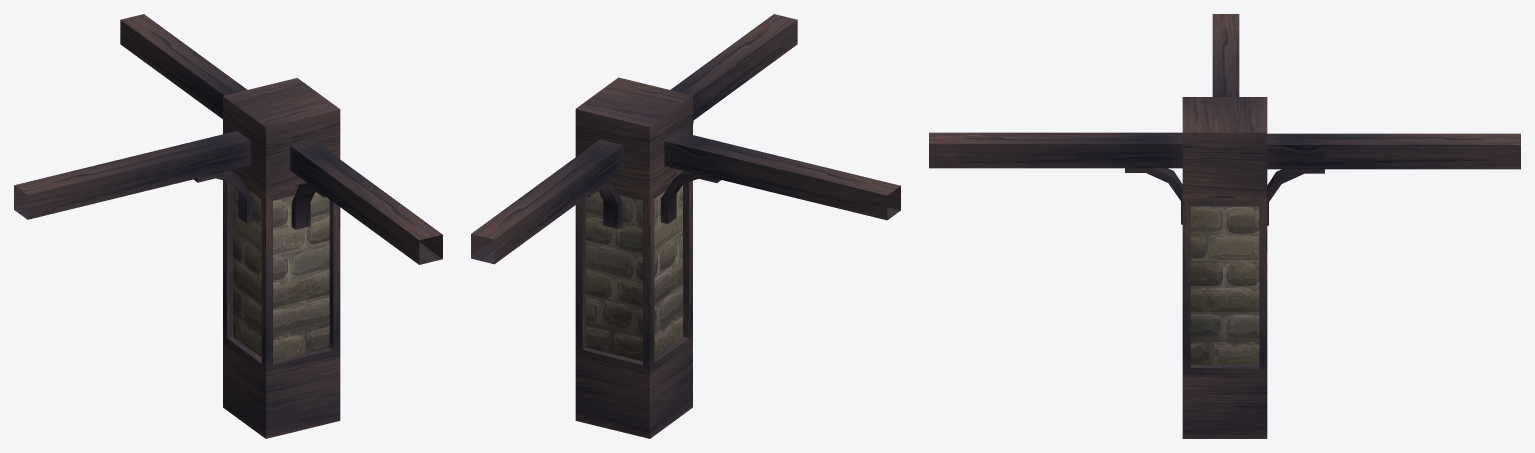
Rendered from Pillar_x1_3Ways.fbx.
3 views of the same model, side by side, from view 1: azimuth 30°, elevation 25°; view 2: azimuth 150°, elevation 25°; view 3: azimuth 270°, elevation 25° (orthographic).
Visible parts, largest first — view 1: Pillar_x1_3Ways; view 2: Pillar_x1_3Ways; view 3: Pillar_x1_3Ways.
Boxes of the visible parts, box(x1,y1,x2,y2) form: Pillar_x1_3Ways: box(14, 14, 442, 438); Pillar_x1_3Ways: box(471, 14, 900, 438); Pillar_x1_3Ways: box(929, 14, 1520, 438).
Bounding box in the file's own units: 0.6259 × 0.6265 × 1.1.
